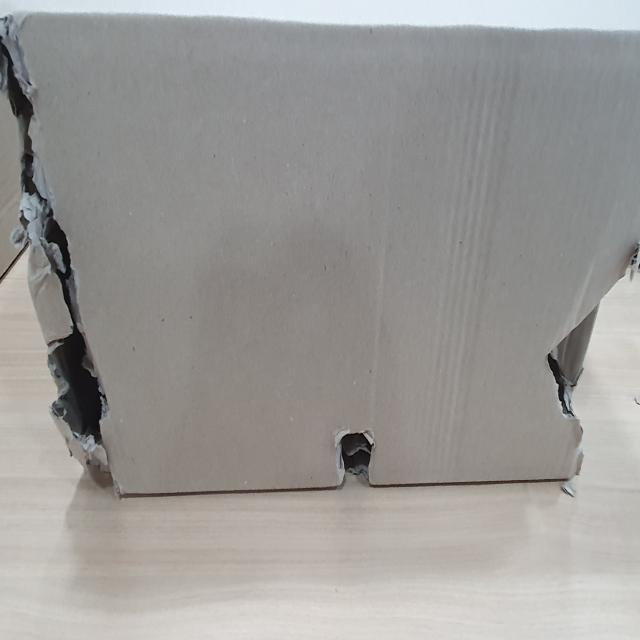hole: (37, 210, 109, 458), (546, 287, 602, 439), (3, 17, 44, 217), (333, 423, 381, 493)
